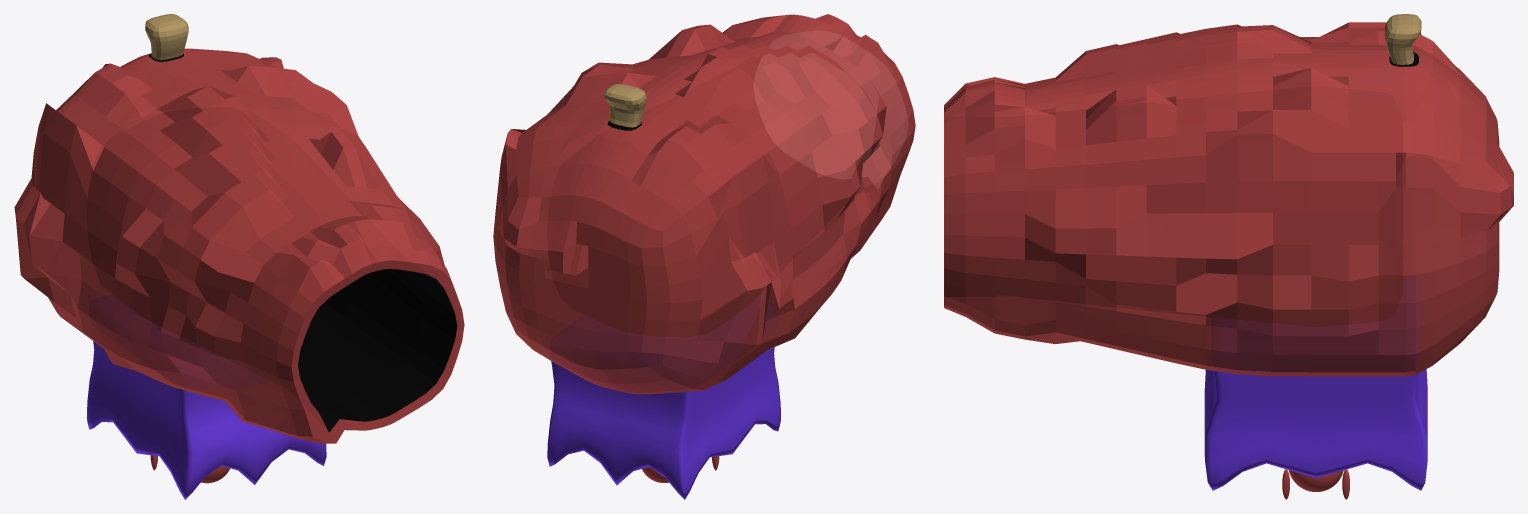
The model's file is SmallCanon.fbx.
The picture shows the model from 3 angles, left to right: view 1: azimuth 30°, elevation 25°; view 2: azimuth 150°, elevation 25°; view 3: azimuth 270°, elevation 25°; orthographic projection. The views are drawn at different scales.
Parts seen in each view (by area): view 1: Small Canon; view 2: Small Canon; view 3: Small Canon.
Boxes of the visible parts, <box> form: Small Canon: <box>14,14,464,499</box>; Small Canon: <box>493,14,915,499</box>; Small Canon: <box>944,14,1513,499</box>.
Bounding box in the file's own units: 42.36 × 60.08 × 66.08.
